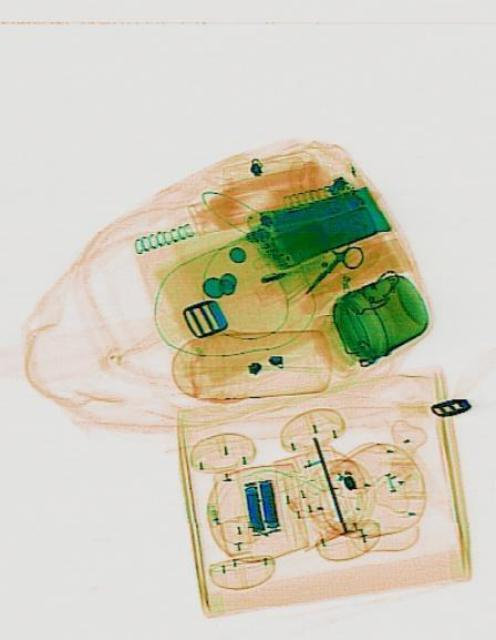Scissors: (290, 224, 365, 306)
